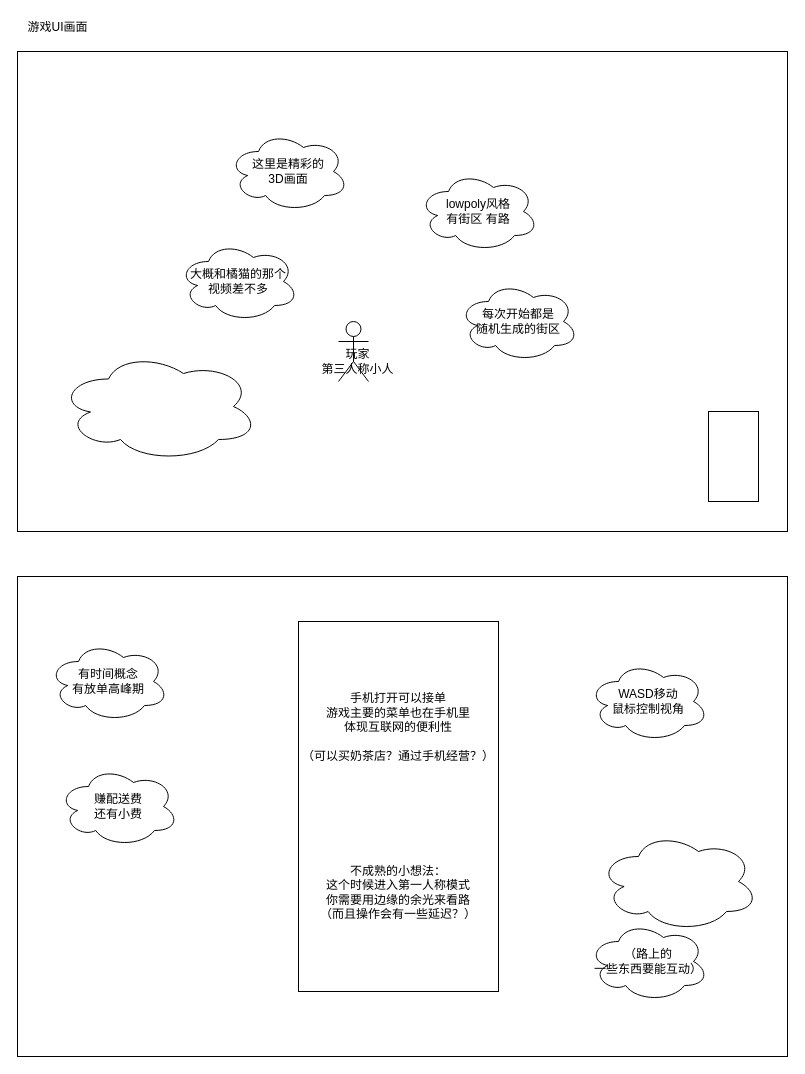
The diagram is 805 pixels wide and 1074 high, and some of its shapes have lost their labels. The shapes that lost their labels are listed below. From the top down, each one's box as (x1, y1, x2, y2) in pixels, then its label:
(338, 320, 368, 382): Actor
(58, 350, 258, 462): 街区按照地下城 式的进行生成有随机的名称 进入新街区会在左下角显示
(708, 410, 758, 502): 手机
(598, 830, 758, 932): 画风要可爱 撞到物体要有 果冻的感觉，震一下
